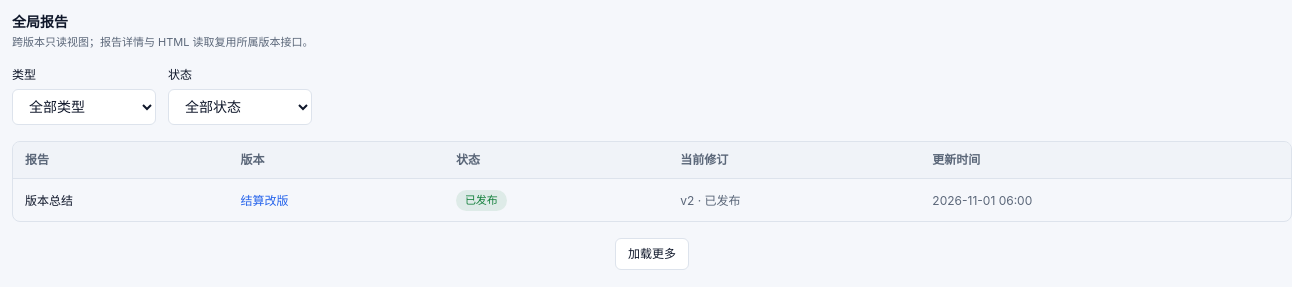
GlobalReportsPage › loads the next page with the exclusive before cursor
Expected: the link "结算改版" is shown, [240,193,288,209]
Click the button with test id "global-reports-load-more": (652, 254) [615,238,689,270]
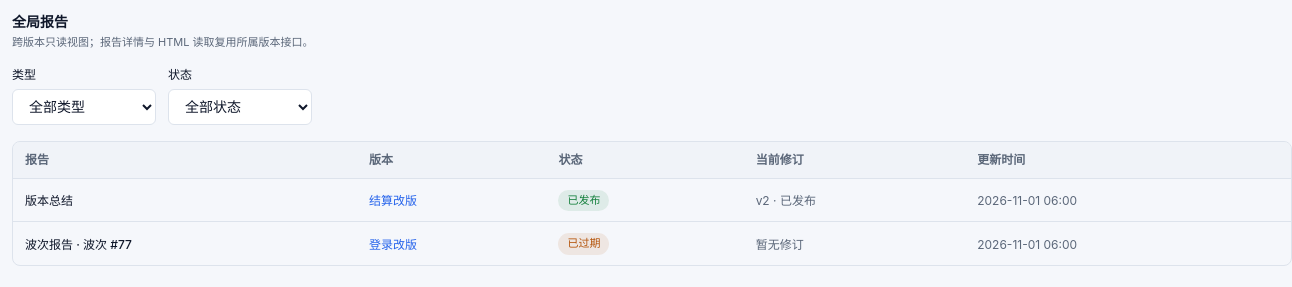
Expected: the link "登录改版" is shown, [369,236,417,252]
Expected: the button with test id "global-reports-load-more" is gone
